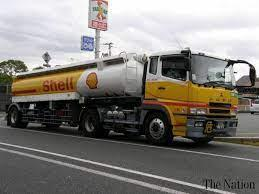Truck: (7, 48, 243, 144)
